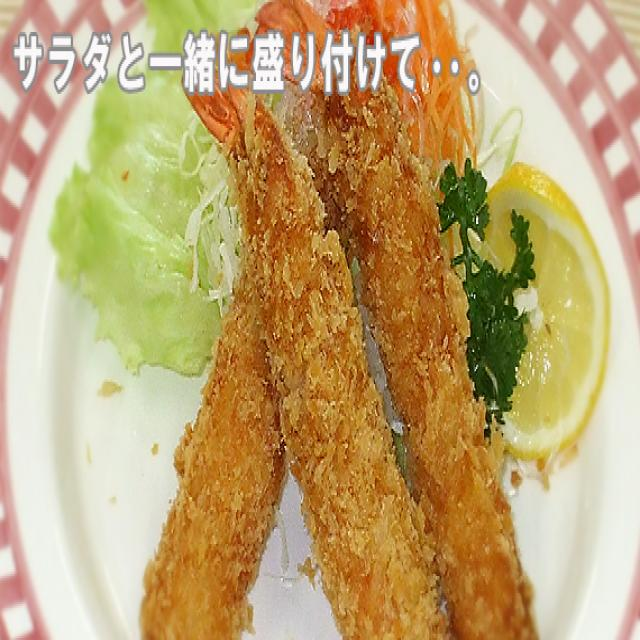炸货点心: (135, 0, 544, 640)
熟制海鲜: (135, 0, 544, 640)
